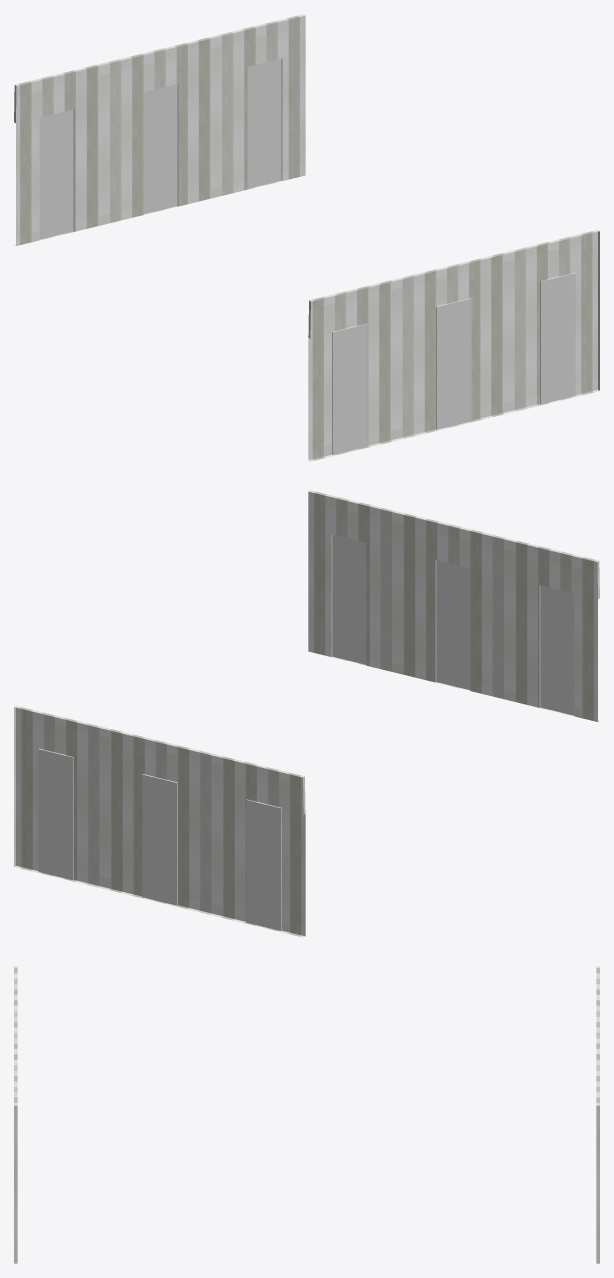
Rendered from PartyRoomWindowedWalls.fbx.
The picture shows the model from 3 angles, top to bottom: view 1: azimuth 30°, elevation 25°; view 2: azimuth 150°, elevation 25°; view 3: azimuth 270°, elevation 25°; orthographic projection.
Parts seen in each view (by area): view 1: WindowWall; view 2: WindowWall; view 3: WindowWall.
Part boxes in pixels (x1=…): WindowWall: x1=14, y1=14, x2=599, y2=461; WindowWall: x1=14, y1=490, x2=599, y2=937; WindowWall: x1=14, y1=966, x2=599, y2=1263.
Bounding box in the file's own units: 2022 × 1067 × 3583.
